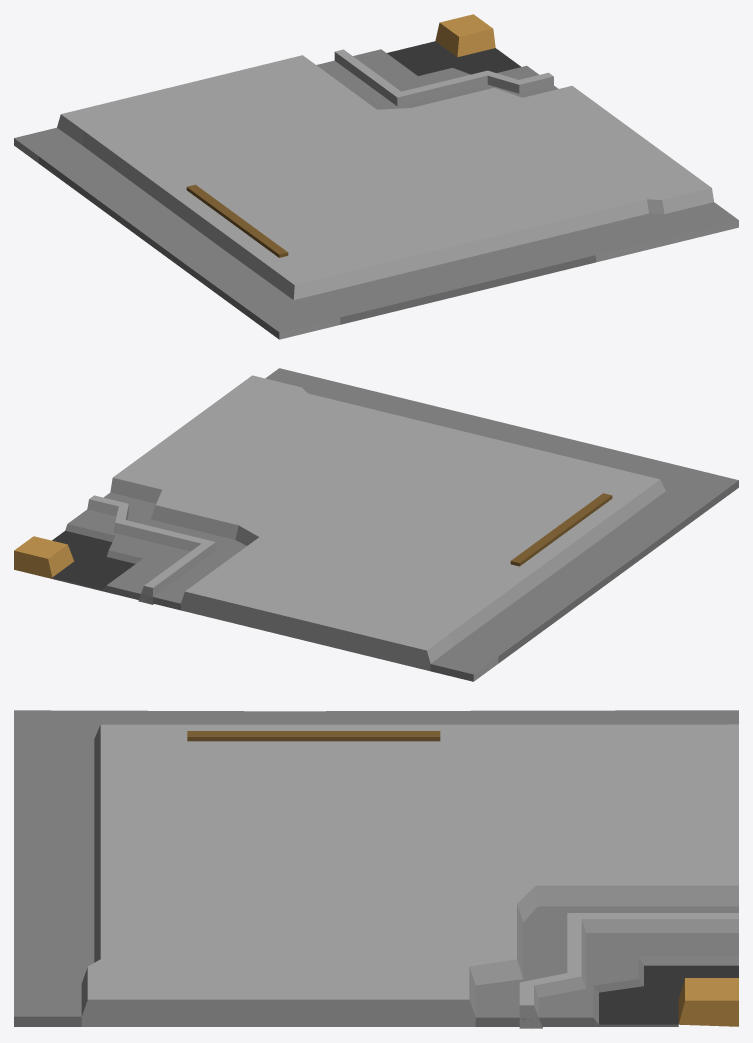
File: floortile_innercorner.010_lev3.glb
3 views of the same model, one above another, from view 1: azimuth 30°, elevation 25°; view 2: azimuth 150°, elevation 25°; view 3: azimuth 270°, elevation 25° (orthographic). The views are drawn at different scales.
Parts seen in each view (by area): view 1: floortile_innercorner.010_lev3; view 2: floortile_innercorner.010_lev3; view 3: floortile_innercorner.010_lev3.
Part boxes in pixels (x1,y1,x2,y2): floortile_innercorner.010_lev3: [14, 14, 738, 339]; floortile_innercorner.010_lev3: [14, 368, 738, 681]; floortile_innercorner.010_lev3: [14, 710, 738, 1028].
Bounding box in the file's own units: 2 × 0.102 × 2.
